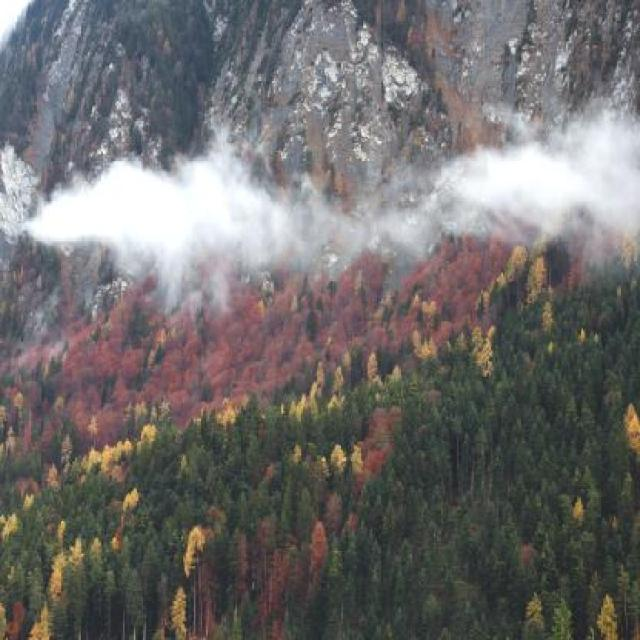Smoke: (0, 96, 640, 312)
